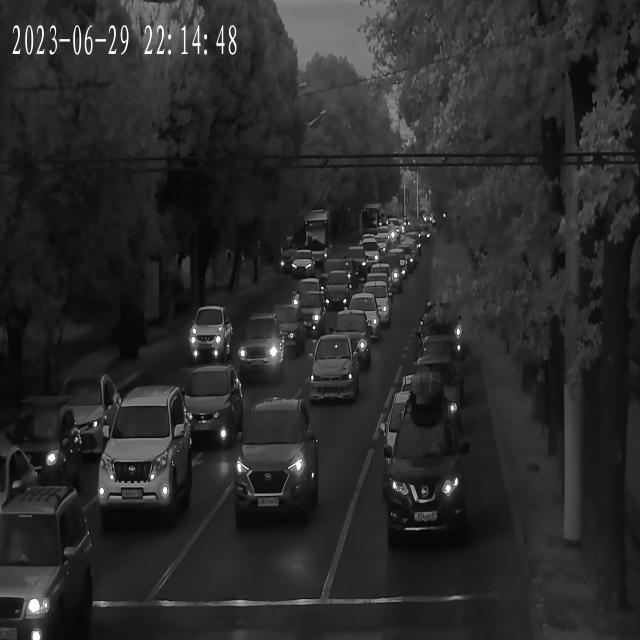Bus: (302, 208, 328, 256), (362, 205, 384, 236)
Car: (0, 496, 91, 640), (97, 395, 193, 530), (385, 396, 469, 548), (222, 400, 318, 521), (0, 395, 82, 502), (43, 372, 123, 461), (172, 368, 248, 448), (394, 365, 462, 431), (309, 334, 366, 405), (222, 317, 286, 378), (321, 314, 375, 366), (188, 306, 236, 364), (255, 306, 306, 352), (338, 295, 384, 346), (405, 354, 460, 396), (418, 314, 468, 360), (352, 283, 392, 329), (289, 292, 328, 336), (413, 334, 461, 369), (317, 271, 354, 303), (289, 281, 325, 313), (368, 262, 402, 294), (326, 258, 356, 288), (284, 251, 316, 279), (344, 247, 371, 276), (378, 252, 408, 278), (361, 278, 391, 301), (359, 240, 378, 261), (396, 237, 417, 254), (373, 232, 392, 247)
